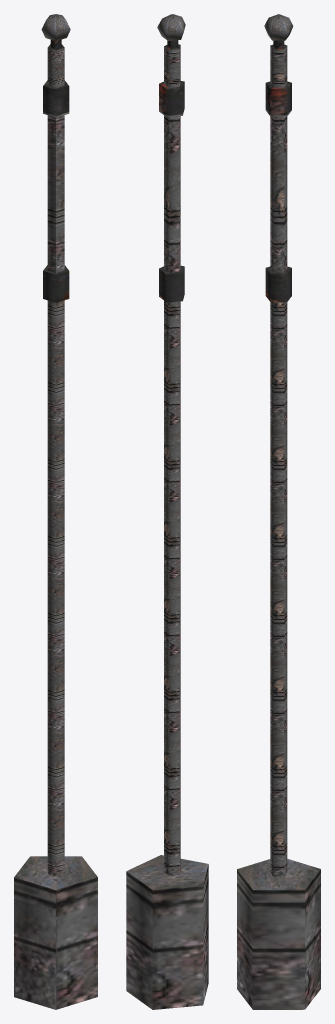
Rendered from mun_corl_imprv_flagpole_s01.fbx.
The picture shows the model from 3 angles, left to right: view 1: azimuth 90°, elevation 25°; view 2: azimuth 210°, elevation 25°; view 3: azimuth 270°, elevation 25°; orthographic projection.
Parts seen in each view (by area): view 1: mesh_node; view 2: mesh_node; view 3: mesh_node.
Part boxes in pixels (x1,y1,x2,y2): mesh_node: (14, 14, 97, 1009); mesh_node: (126, 14, 208, 1009); mesh_node: (237, 14, 320, 1009).
Size of the model in its own units: 0.6154 by 8.33 by 0.6462.
Materials: 1 (1 with a texture image).
